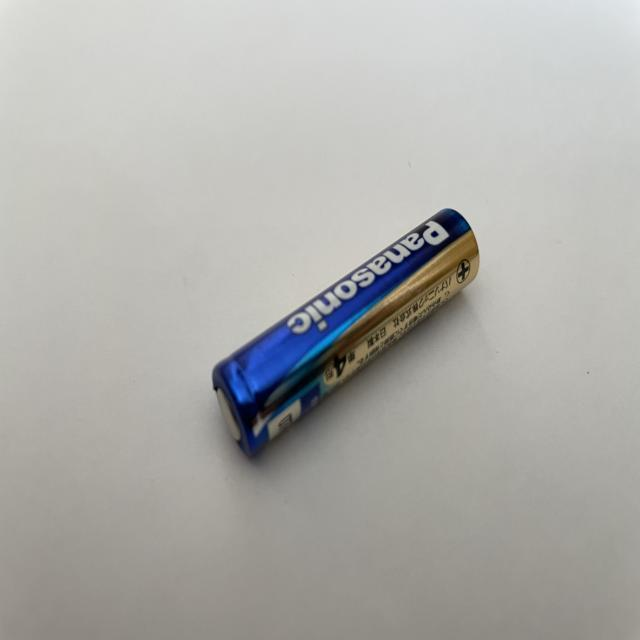AA: (210, 205, 480, 460)
